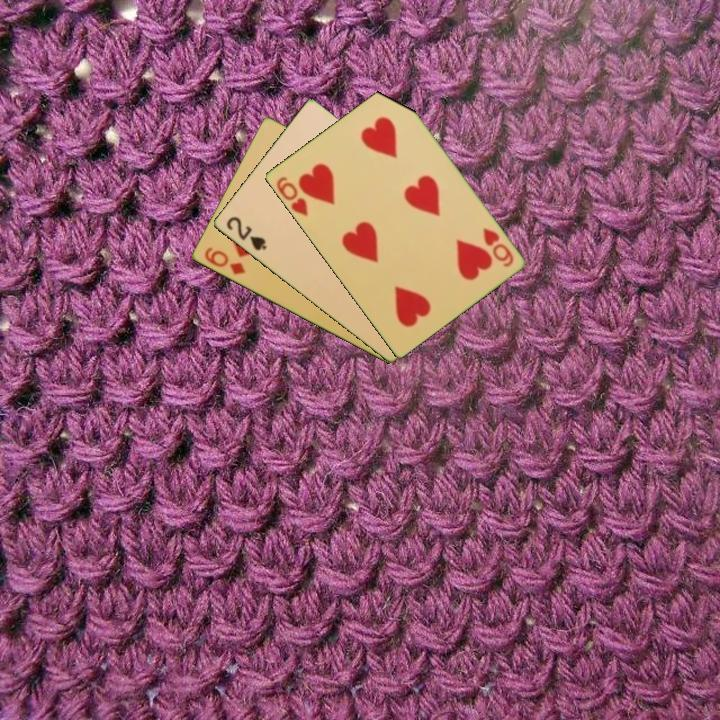2s: (222, 213, 269, 254)
6d: (200, 243, 248, 278)
6h: (272, 173, 311, 219), (479, 224, 516, 270)
